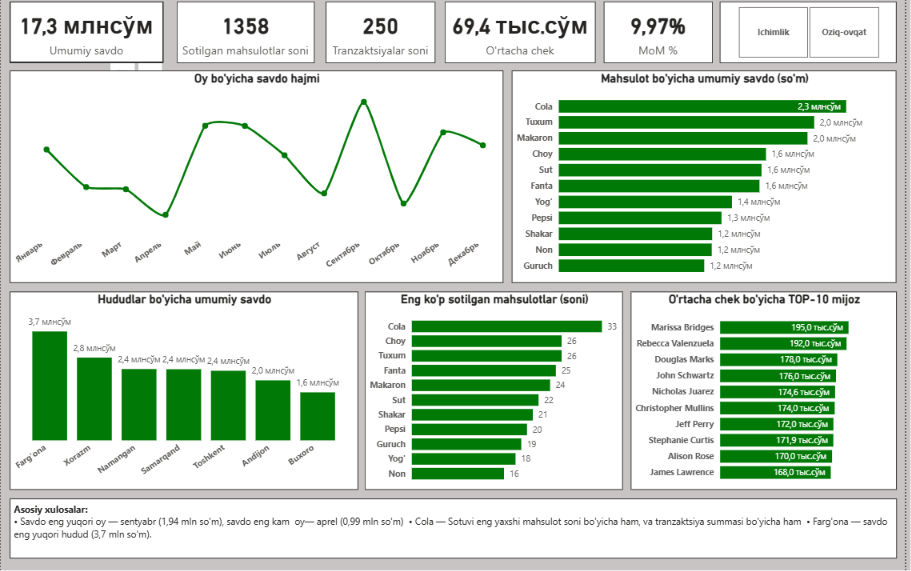

Layout of this report page (visuals, bound fields, positions):
{"tool":"powerbi","page":{"name":"Страница 1","canvas":[1280,820],"ordinal":0},"visuals":[{"type":"clusteredColumnChart","title":"Hududlar bo''yicha umumiy savdo","fields":{"Category":["Havas.Region"],"Y":["Sum(Havas.Amount)"]},"box":[12.4,421.7,493.9,281.1],"z":0},{"type":"slicer","title":"Hududlar bo''yicha umumiy savdo","fields":{"Values":["Havas.Category"]},"box":[1018.8,11.2,250,87.1],"z":1000},{"type":"card","fields":{"Values":["Havas.Umumiy savdo"]},"box":[12.4,11.2,217.7,87.1],"z":2000},{"type":"barChart","title":"Eng ko''p sotilgan mahsulotlar (soni)","fields":{"Y":["CountNonNull(Havas.Amount)"],"Category":["Supermarket.Product"]},"box":[516.2,421.7,365.7,281.1],"z":3000},{"type":"lineChart","title":"Oy bo''yicha savdo hajmi","fields":{"Y":["Sum(Supermarket.Amount)"],"Category":["Calendar.Month"]},"box":[12.4,109.5,699.1,301],"z":4000},{"type":"card","fields":{"Values":["Supermarket.quantity of product"]},"box":[248.8,11.2,195.3,87.1],"z":5000},{"type":"card","fields":{"Values":["Supermarket.transaction"]},"box":[460.3,11.2,155.5,87.1],"z":6000},{"type":"card","fields":{"Values":["Avg(Supermarket.Amount)"]},"box":[629.4,11.2,214,87.1],"z":7000},{"type":"barChart","title":"Mahsulot bo''yicha umumiy savdo (so''m)","fields":{"Category":["Havas.Product"],"Y":["Sum(Havas.Amount)"]},"box":[724,109.5,544.9,301],"z":8000},{"type":"barChart","title":"O''rtacha chek bo''yicha TOP-10 mijoz","fields":{"Y":["Avg(Havas.Amount)"],"Category":["Supermarket.Customer"]},"box":[891.9,421.7,376.9,281.1],"z":9000},{"type":"card","fields":{"Values":["Calendar.MoM %"]},"box":[854.6,11.2,154.3,87.1],"z":9001},{"type":"textbox","box":[12.8,715.4,1256.6,85],"z":9002}]}

Visuals, with their boxes in screenshot pixels (x1, y1, x2, y2), scaled from the page's 1280x820 canvas onto the 911x571 screenshot:
"Hududlar bo''yicha umumiy savdo" clusteredColumnChart: x1=9, y1=294, x2=360, y2=489
"Hududlar bo''yicha umumiy savdo" slicer: x1=725, y1=8, x2=903, y2=68
card - Havas.Umumiy savdo: x1=9, y1=8, x2=164, y2=68
"Eng ko''p sotilgan mahsulotlar (soni)" barChart: x1=367, y1=294, x2=628, y2=489
"Oy bo''yicha savdo hajmi" lineChart: x1=9, y1=76, x2=506, y2=286
card - Supermarket.quantity of product: x1=177, y1=8, x2=316, y2=68
card - Supermarket.transaction: x1=328, y1=8, x2=438, y2=68
card - Avg(Supermarket.Amount): x1=448, y1=8, x2=600, y2=68
"Mahsulot bo''yicha umumiy savdo (so''m)" barChart: x1=515, y1=76, x2=903, y2=286
"O''rtacha chek bo''yicha TOP-10 mijoz" barChart: x1=635, y1=294, x2=903, y2=489
card - Calendar.MoM %: x1=608, y1=8, x2=718, y2=68
textbox: x1=9, y1=498, x2=903, y2=557
